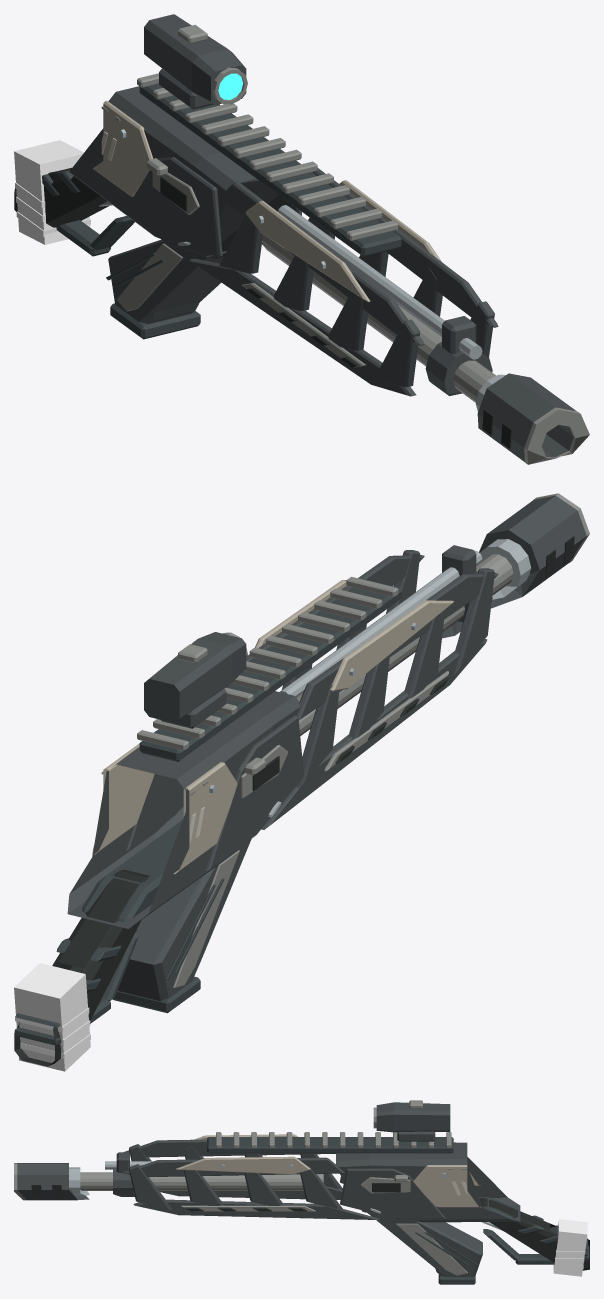
The model's file is bastion-carbine.glb.
The picture shows the model from 3 angles, top to bottom: view 1: azimuth 30°, elevation 25°; view 2: azimuth 150°, elevation 25°; view 3: azimuth 270°, elevation 25°; orthographic projection. The views are drawn at different scales.
Parts seen in each view (by area): view 1: kestrel__weapon_armor_charcoal, kestrel__weapon_steel_warm_machined, kestrel__weapon_frame_graphite, kestrel__weapon_armor_warm_ceramic, kestrel__weapon_steel_brushed, kestrel__weapon_grip_rubber, Bastion carbine / pistol grip sleeve; view 2: kestrel__weapon_armor_charcoal, kestrel__weapon_steel_warm_machined, kestrel__weapon_frame_graphite, kestrel__weapon_armor_warm_ceramic, kestrel__weapon_grip_rubber, Bastion carbine / pistol grip sleeve, kestrel__weapon_steel_brushed; view 3: kestrel__weapon_armor_charcoal, kestrel__weapon_steel_warm_machined, kestrel__weapon_frame_graphite, kestrel__weapon_armor_warm_ceramic, kestrel__weapon_grip_rubber, Bastion carbine / pistol grip sleeve, kestrel__weapon_steel_brushed.
Part boxes in pixels (bbox=[...]): kestrel__weapon_armor_charcoal: bbox=[68, 14, 576, 461]; kestrel__weapon_steel_warm_machined: bbox=[101, 24, 589, 464]; kestrel__weapon_frame_graphite: bbox=[14, 83, 401, 339]; kestrel__weapon_armor_warm_ceramic: bbox=[93, 101, 441, 302]; kestrel__weapon_steel_brushed: bbox=[99, 129, 505, 411]; kestrel__weapon_grip_rubber: bbox=[14, 167, 511, 448]; Bastion carbine / pistol grip sleeve: bbox=[14, 140, 90, 244]; kestrel__weapon_armor_charcoal: bbox=[67, 496, 586, 1001]; kestrel__weapon_steel_warm_machined: bbox=[101, 493, 589, 987]; kestrel__weapon_frame_graphite: bbox=[14, 579, 401, 1045]; kestrel__weapon_armor_warm_ceramic: bbox=[92, 580, 453, 874]; kestrel__weapon_grip_rubber: bbox=[14, 536, 574, 1066]; Bastion carbine / pistol grip sleeve: bbox=[14, 963, 90, 1071]; kestrel__weapon_steel_brushed: bbox=[209, 539, 531, 817]; kestrel__weapon_armor_charcoal: bbox=[17, 1102, 520, 1277]; kestrel__weapon_steel_warm_machined: bbox=[14, 1100, 467, 1275]; kestrel__weapon_frame_graphite: bbox=[207, 1137, 589, 1284]; kestrel__weapon_armor_warm_ceramic: bbox=[176, 1134, 480, 1207]; kestrel__weapon_grip_rubber: bbox=[31, 1183, 589, 1270]; Bastion carbine / pistol grip sleeve: bbox=[553, 1219, 587, 1276]; kestrel__weapon_steel_brushed: bbox=[69, 1161, 502, 1230].
Size of the model in its own units: 0.506 by 1.42 by 4.23.
